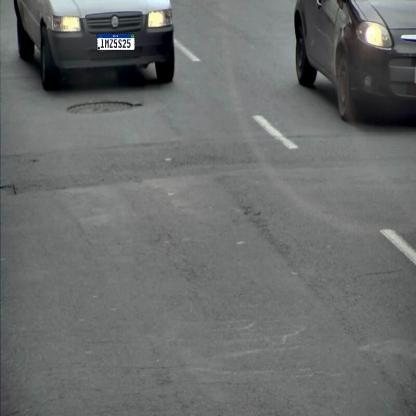PlacaM: (97, 33, 135, 51)
